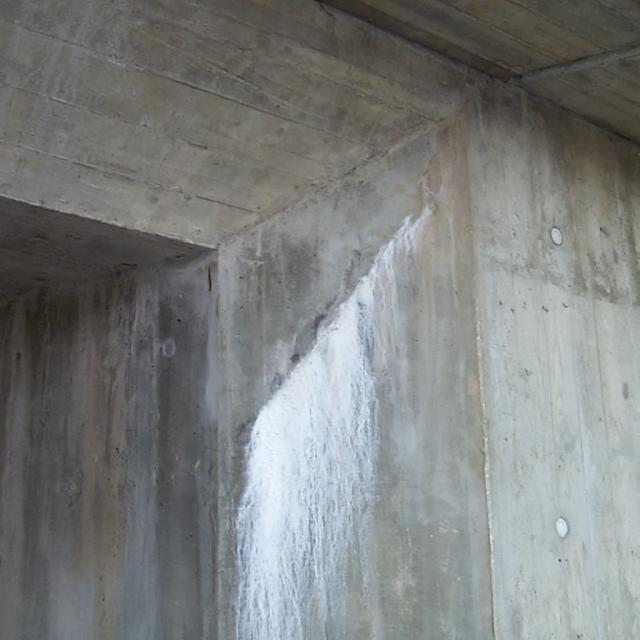D01: (230, 210, 433, 639)
